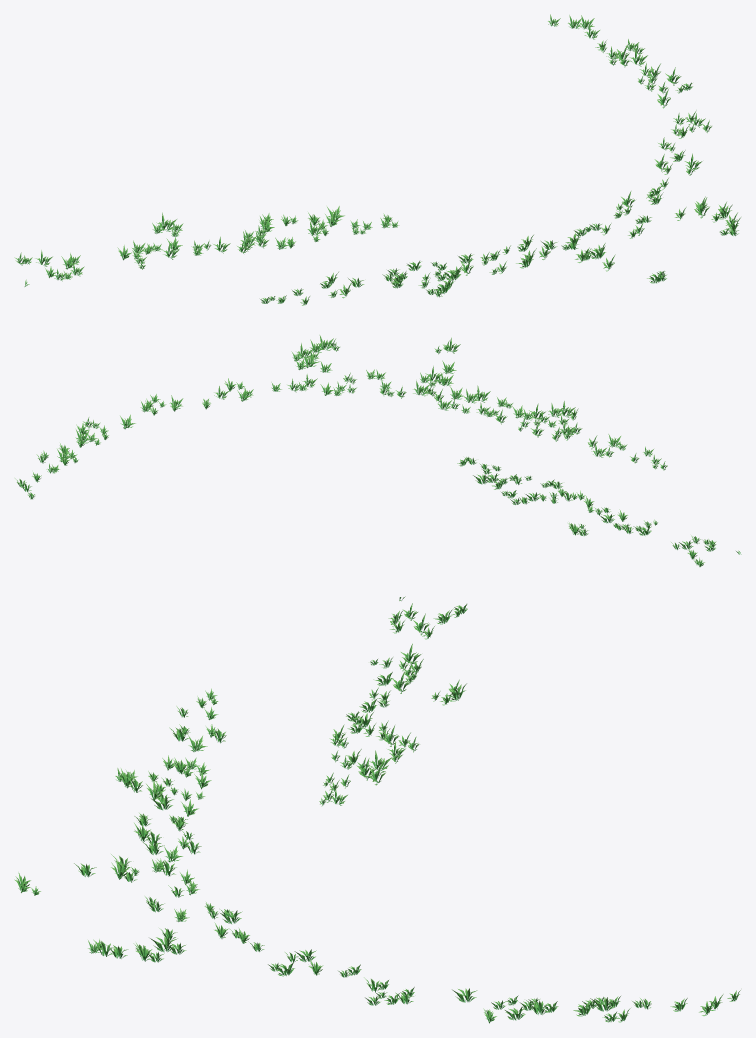
Rendered from Area_10_32.fbx.
3 renders of one model, top to bottom at view 1: azimuth 30°, elevation 25°; view 2: azimuth 150°, elevation 25°; view 3: azimuth 270°, elevation 25°, orthographic. The views are drawn at different scales.
Parts seen in each view (by area): view 1: Area_10_32; view 2: Area_10_32; view 3: Area_10_32.
Part boxes in pixels (x1=…): Area_10_32: x1=14, y1=14, x2=740, y2=305; Area_10_32: x1=15, y1=335, x2=741, y2=566; Area_10_32: x1=14, y1=596, x2=740, y2=1023.
Bounding box in the file's own units: 5208 × 118 × 3767.
